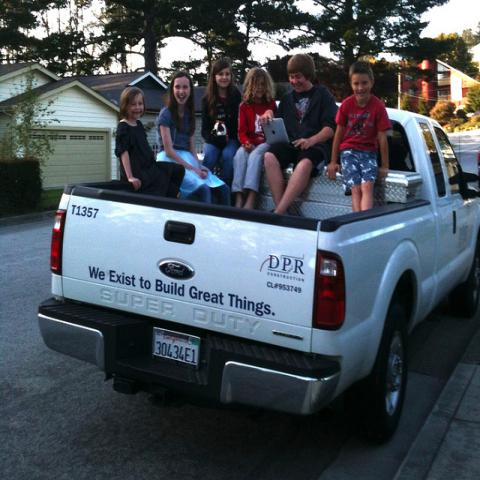truck: (41, 52, 478, 446)
